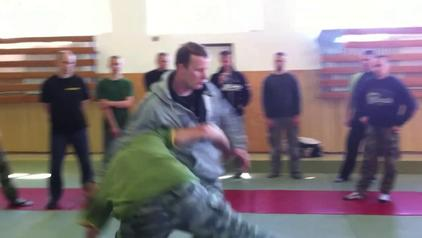sit: (206, 84, 253, 186)
stay: (37, 52, 96, 181), (257, 52, 307, 176)
